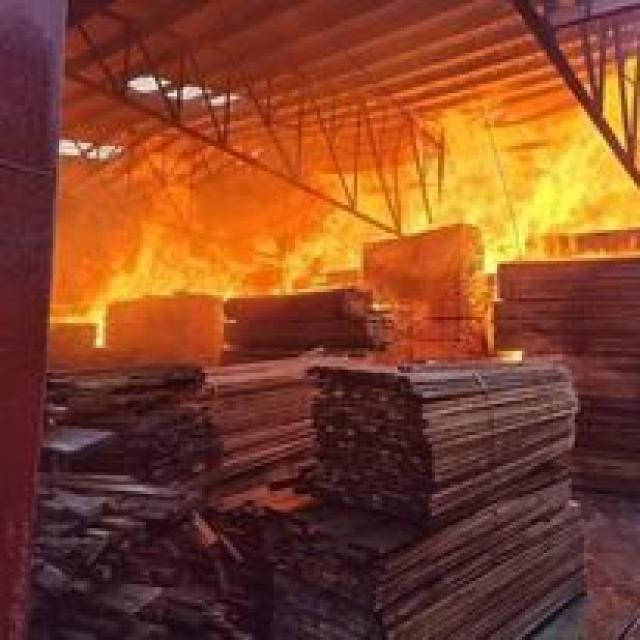Fire: (64, 64, 640, 338)
